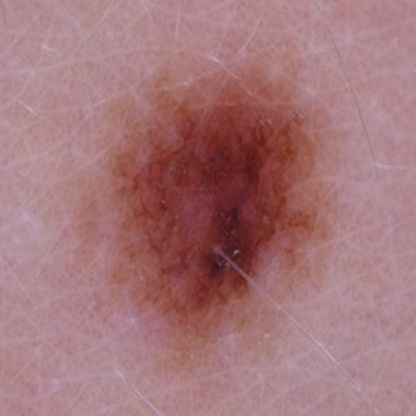benign: (125, 84, 317, 302)
